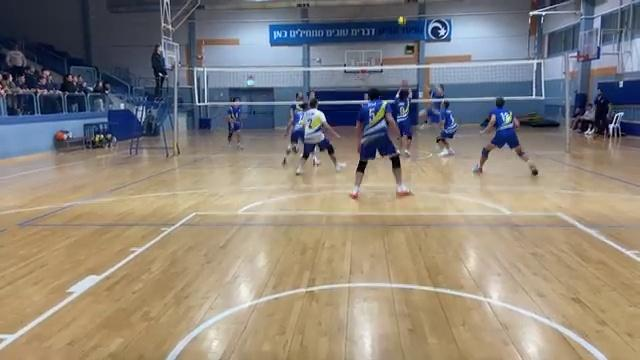ball: (396, 15, 409, 27)
